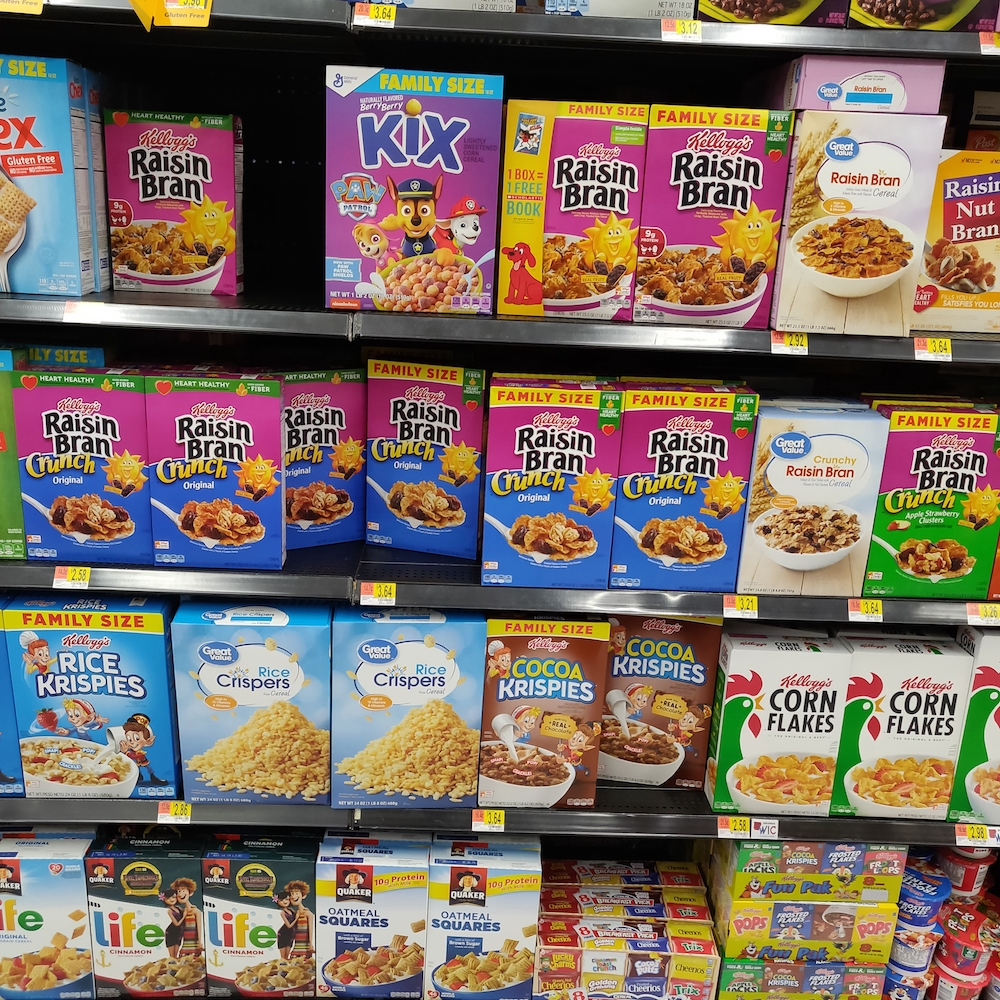Kix Berry -568919964: (324, 95, 507, 303)
